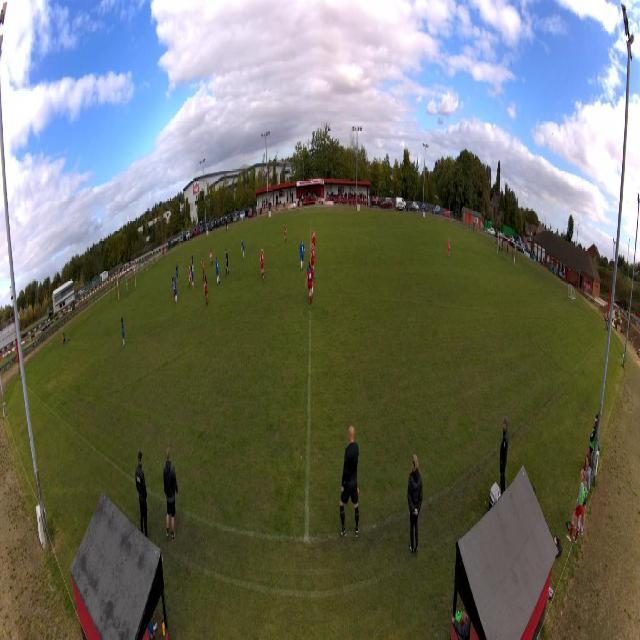ball: (189, 266, 191, 271)
player: (305, 262, 313, 308), (305, 259, 314, 298), (299, 237, 306, 272), (260, 248, 266, 280), (310, 242, 315, 280), (204, 273, 209, 308), (215, 255, 220, 287), (225, 247, 230, 277), (187, 270, 194, 290), (311, 227, 316, 254), (121, 316, 125, 348), (209, 244, 214, 268), (174, 276, 178, 305), (240, 239, 245, 261), (191, 264, 195, 290), (201, 258, 205, 283), (283, 223, 287, 247), (172, 271, 175, 298), (176, 261, 179, 286), (448, 237, 451, 258), (173, 279, 176, 300), (191, 252, 194, 272), (126, 280, 129, 299)
